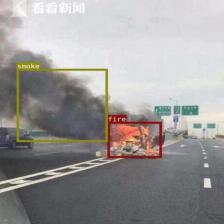fire: (107, 121, 161, 158)
smoke: (16, 68, 107, 142)
